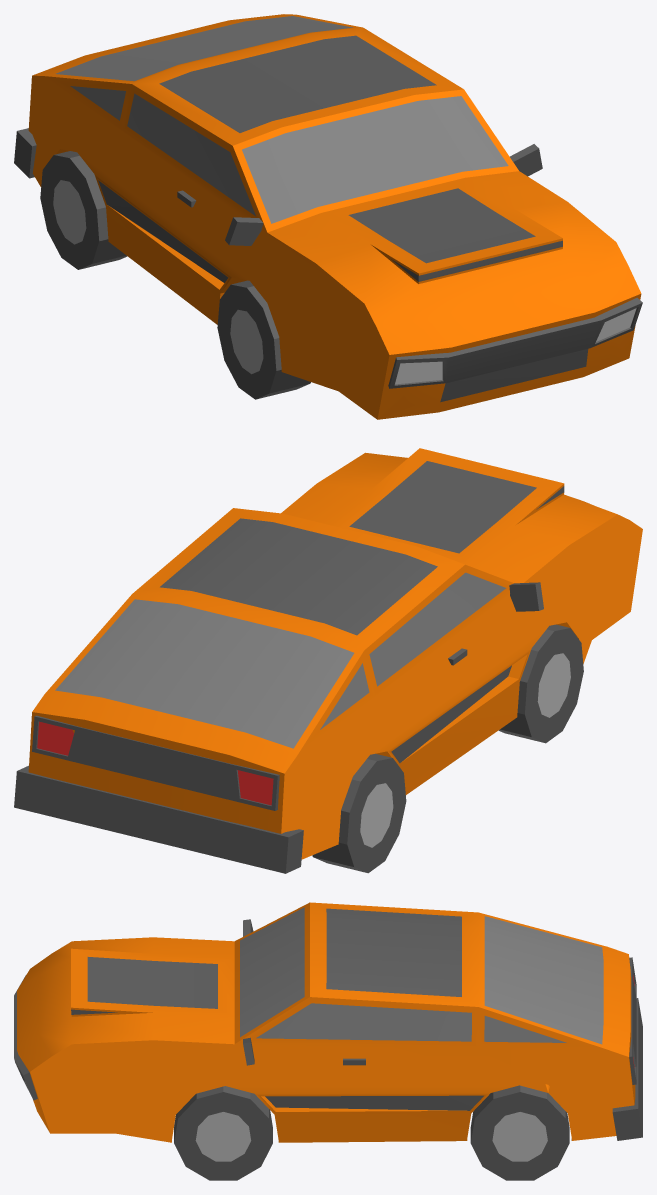
Rendered from SM_Car_06_03.FBX.
3 renders of one model, top to bottom at view 1: azimuth 30°, elevation 25°; view 2: azimuth 150°, elevation 25°; view 3: azimuth 270°, elevation 25°, orthographic. The views are drawn at different scales.
Parts seen in each view (by area): view 1: SM_Car_06_03, SM_Wheel_RBack001, SM_Wheel_LFront001; view 2: SM_Car_06_03, SM_Wheel_RBack001, SM_Wheel_LFront001; view 3: SM_Car_06_03, SM_Wheel_LBack001, SM_Wheel_LFront002.
Part boxes in pixels (x1=…): SM_Car_06_03: x1=14, y1=14, x2=642, y2=419; SM_Wheel_RBack001: x1=40, y1=151, x2=127, y2=269; SM_Wheel_LFront001: x1=217, y1=280, x2=310, y2=399; SM_Car_06_03: x1=14, y1=448, x2=642, y2=873; SM_Wheel_RBack001: x1=312, y1=753, x2=406, y2=873; SM_Wheel_LFront001: x1=498, y1=624, x2=583, y2=743; SM_Car_06_03: x1=14, y1=902, x2=642, y2=1142; SM_Wheel_LBack001: x1=470, y1=1085, x2=569, y2=1180; SM_Wheel_LFront002: x1=174, y1=1086, x2=272, y2=1180.
Bounding box in the file's own units: 1.52 × 0.9605 × 3.15.
Materials: 1 (1 with a texture image).
